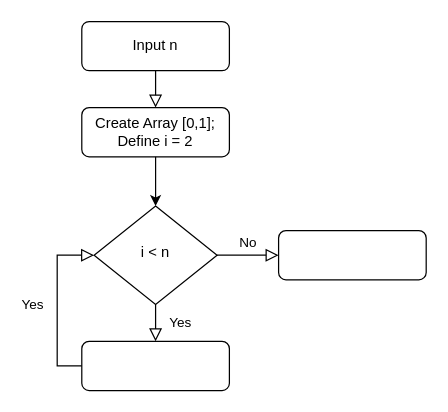
The diagram is 448 pixels wide and 412 high, and some of its shapes have lost their labels. Each missing label, with the centre of its shape:
"Calculate Array[I]" goes at (155,365).
"Output Array with length n" goes at (351,254).
